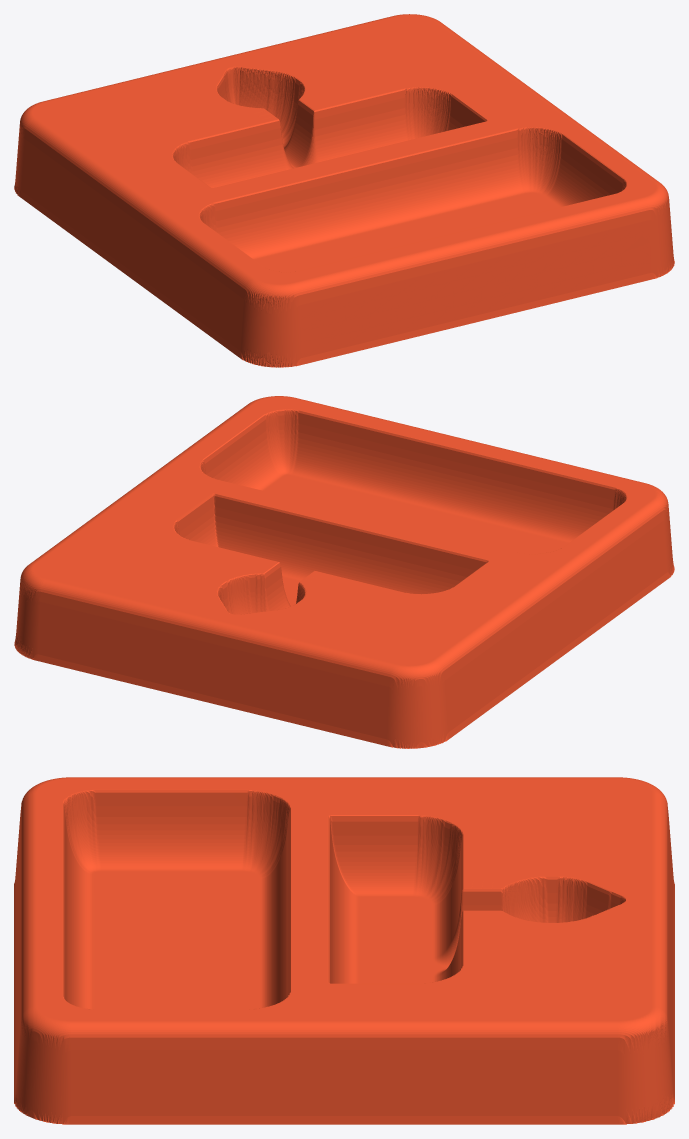
The model's file is mold.glb.
The picture shows the model from 3 angles, top to bottom: view 1: azimuth 30°, elevation 25°; view 2: azimuth 150°, elevation 25°; view 3: azimuth 270°, elevation 25°; orthographic projection. The views are drawn at different scales.
Visible parts, largest first — view 1: geometry_0; view 2: geometry_0; view 3: geometry_0.
Part boxes in pixels (x1,y1,x2,y2): geometry_0: (14,14,674,367); geometry_0: (14,396,674,748); geometry_0: (14,777,674,1124).
Size of the model in its own units: 0.0982 by 0.0165 by 0.105.
